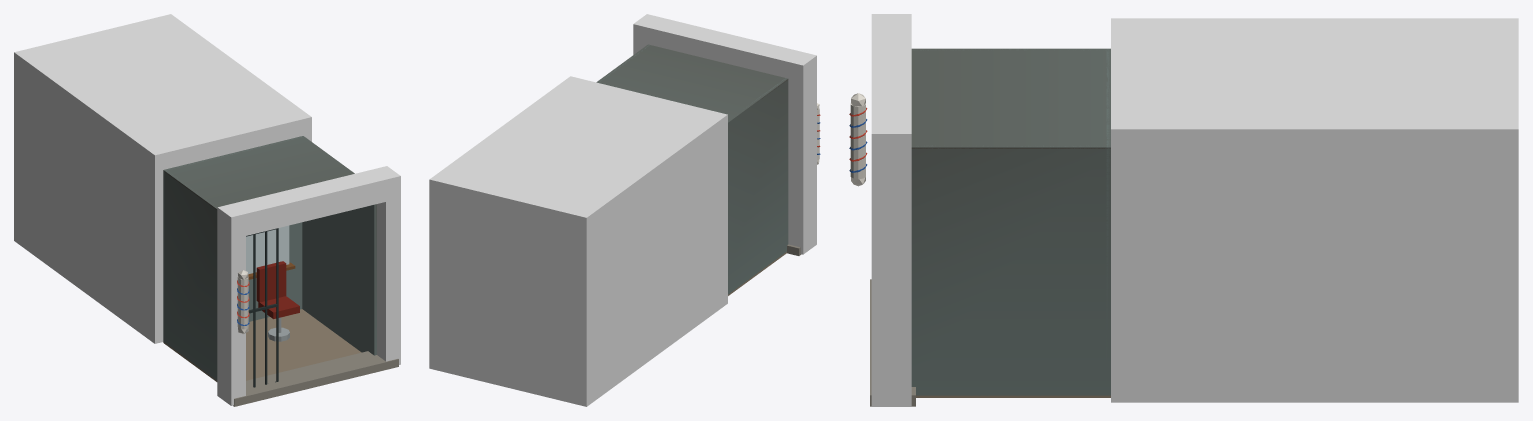
File: tret_hot_toc_32.glb
The picture shows the model from 3 angles, left to right: view 1: azimuth 30°, elevation 25°; view 2: azimuth 150°, elevation 25°; view 3: azimuth 270°, elevation 25°; orthographic projection. The views are drawn at different scales.
Visible parts, largest first — view 1: tret_hot_toc_32; view 2: tret_hot_toc_32; view 3: tret_hot_toc_32.
Part boxes in pixels (<box>): tret_hot_toc_32: <box>14,14,400,406</box>; tret_hot_toc_32: <box>429,14,820,406</box>; tret_hot_toc_32: <box>849,14,1518,406</box>.
Bounding box in the file's own units: 3.2 × 3.42 × 7.55.
